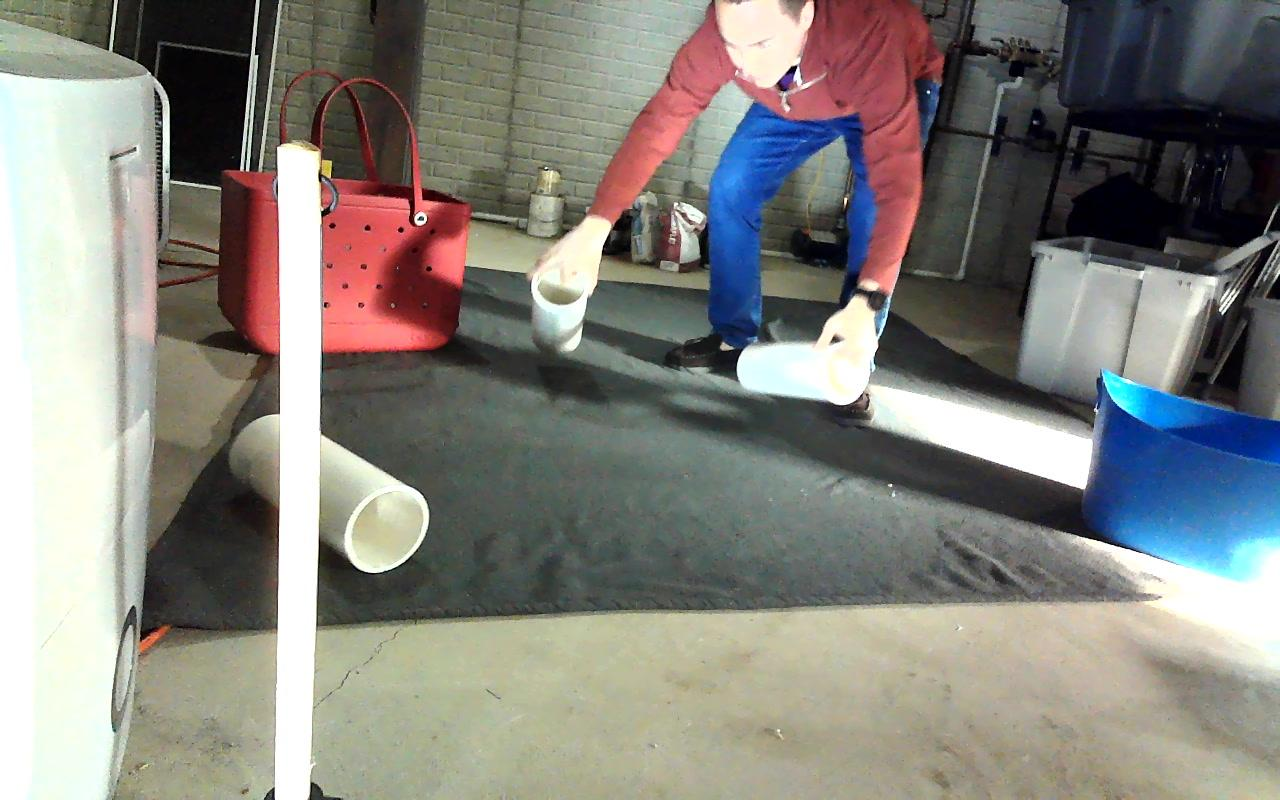coral: (230, 414, 428, 573), (737, 341, 867, 403), (529, 248, 594, 350)
